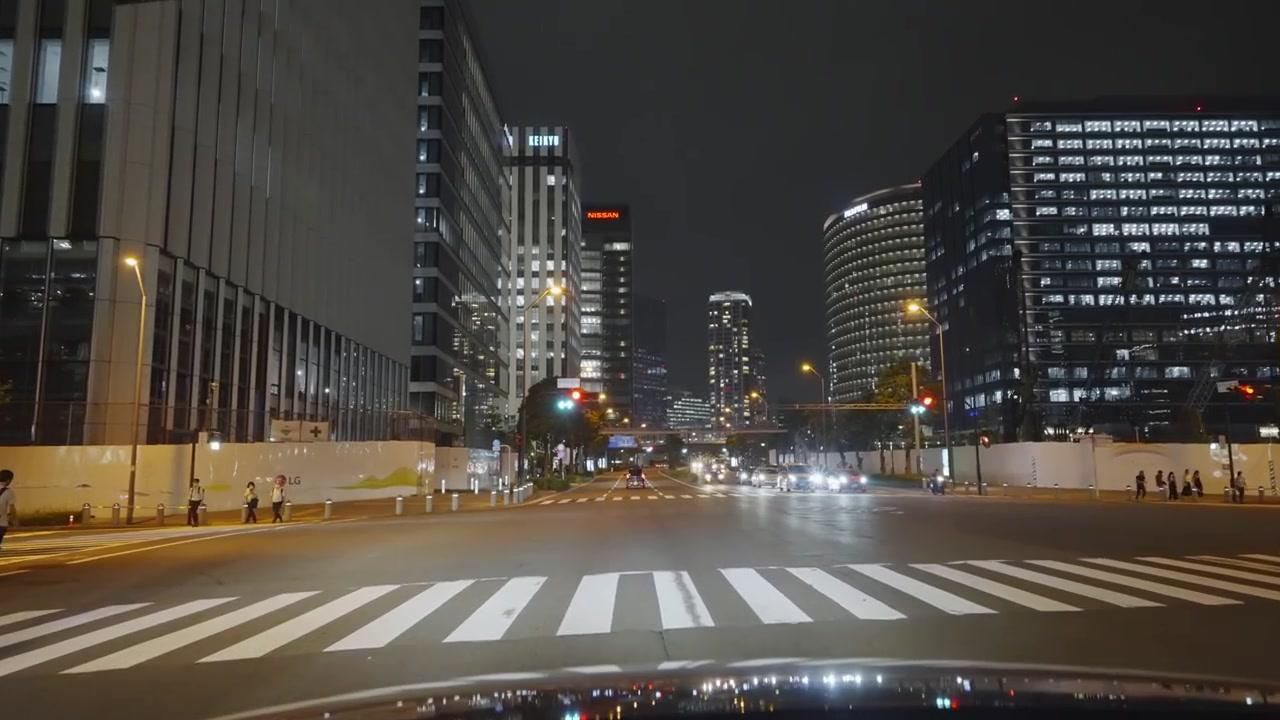car: (784, 466, 830, 491), (829, 468, 866, 489), (752, 467, 783, 488), (626, 468, 647, 487)
person: (0, 470, 16, 551), (270, 475, 289, 525), (187, 475, 205, 527), (242, 479, 260, 524), (1185, 467, 1202, 498), (1234, 469, 1245, 503), (1134, 470, 1146, 500), (1167, 471, 1179, 500), (1158, 470, 1169, 500)
traffic light: (918, 388, 938, 414), (568, 389, 585, 410), (978, 432, 992, 449)
